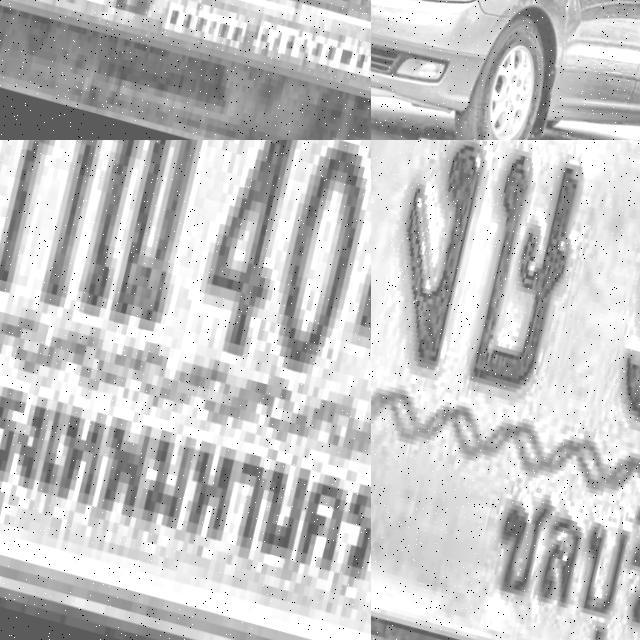license-plate: (0, 140, 371, 640), (371, 140, 640, 640), (0, 0, 371, 140)
